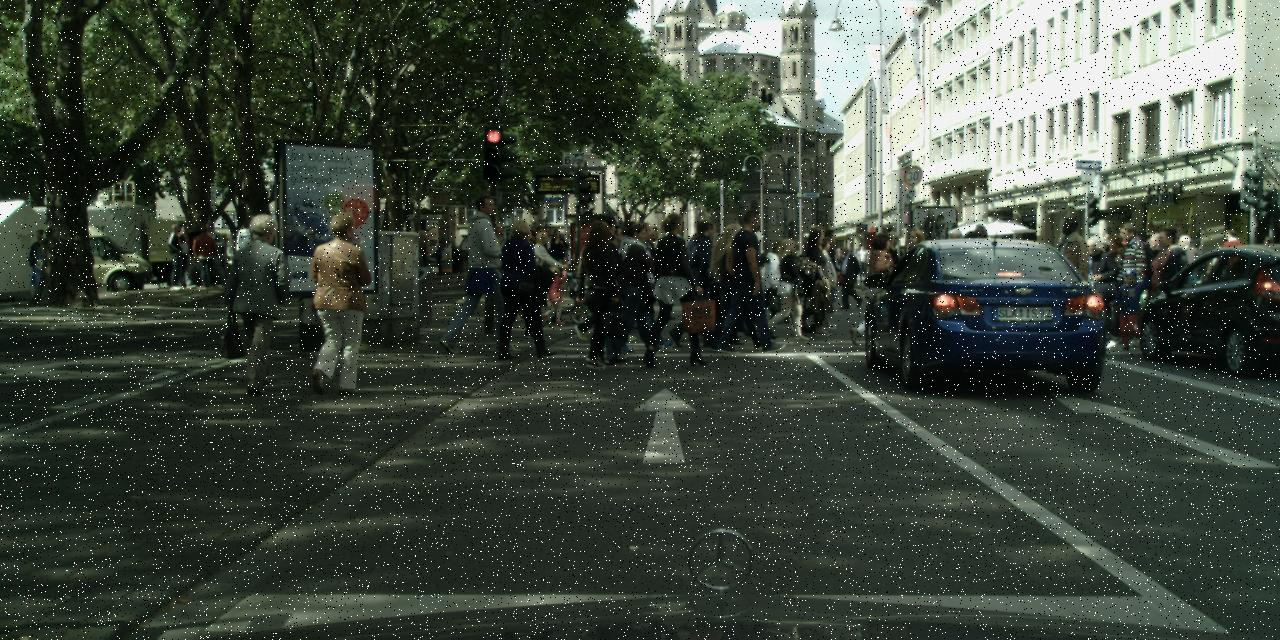ped: (302, 212, 374, 388), (226, 213, 296, 387), (449, 196, 512, 352), (642, 214, 704, 366), (570, 221, 628, 365), (722, 210, 780, 350), (496, 219, 550, 354), (610, 222, 662, 352), (1046, 216, 1098, 344), (614, 222, 664, 346), (709, 223, 759, 346), (1106, 222, 1156, 344), (1141, 228, 1189, 345), (894, 227, 940, 342), (1076, 236, 1121, 346), (856, 233, 900, 341), (765, 240, 804, 336), (1120, 231, 1158, 325), (806, 229, 842, 317), (636, 228, 670, 314), (1097, 234, 1131, 318), (759, 238, 792, 321), (518, 231, 550, 314), (873, 231, 905, 311), (1215, 230, 1246, 306), (1115, 269, 1146, 345), (26, 229, 54, 297), (162, 223, 188, 289), (1254, 235, 1278, 302), (171, 224, 196, 287), (836, 245, 861, 306), (200, 222, 224, 283), (194, 226, 218, 287), (543, 270, 563, 322), (547, 230, 567, 281), (433, 244, 445, 274)
